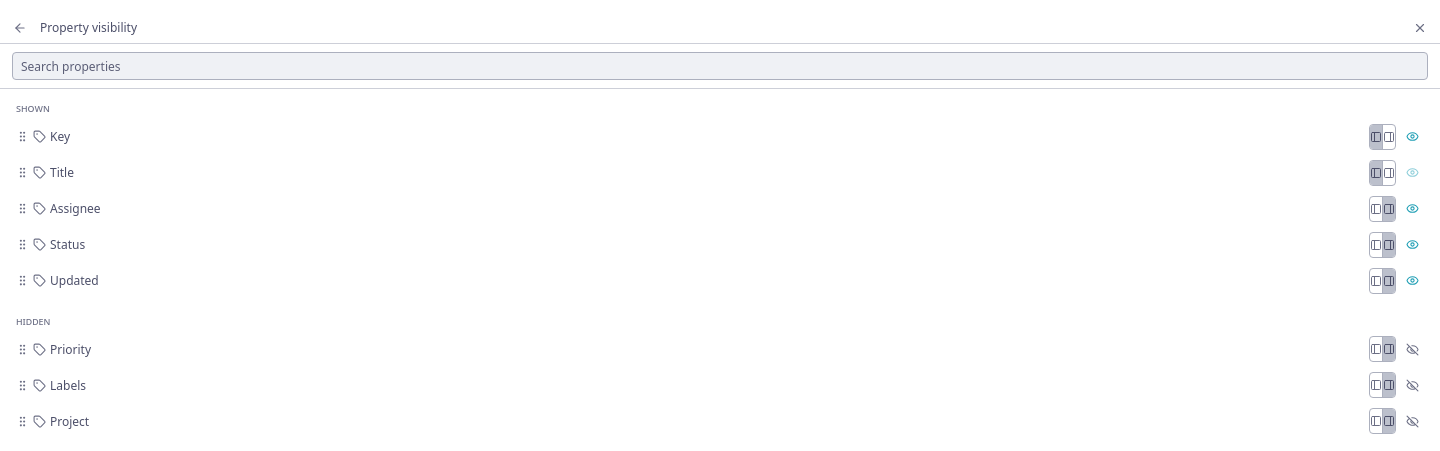
Test: PropertyVisibilityPanel › filters rows by case-insensitive property label and shows section empty text
The width and height of the screenshot is (1440, 451).
Type "priority" into the field labelled "Search properties" at (720, 66), box 12,52 -> 1428,80
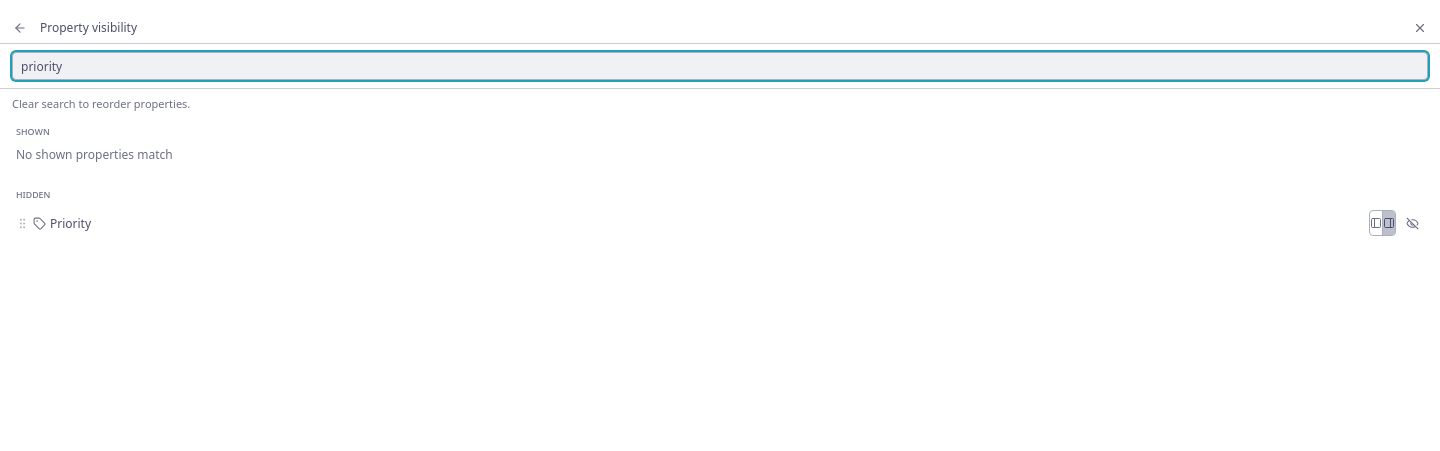
Check: the text "Priority" is shown, box 50,214 -> 91,232
Check: the text "Title" is gone
Check: the text "No shown properties match" is shown, box 16,146 -> 173,163
